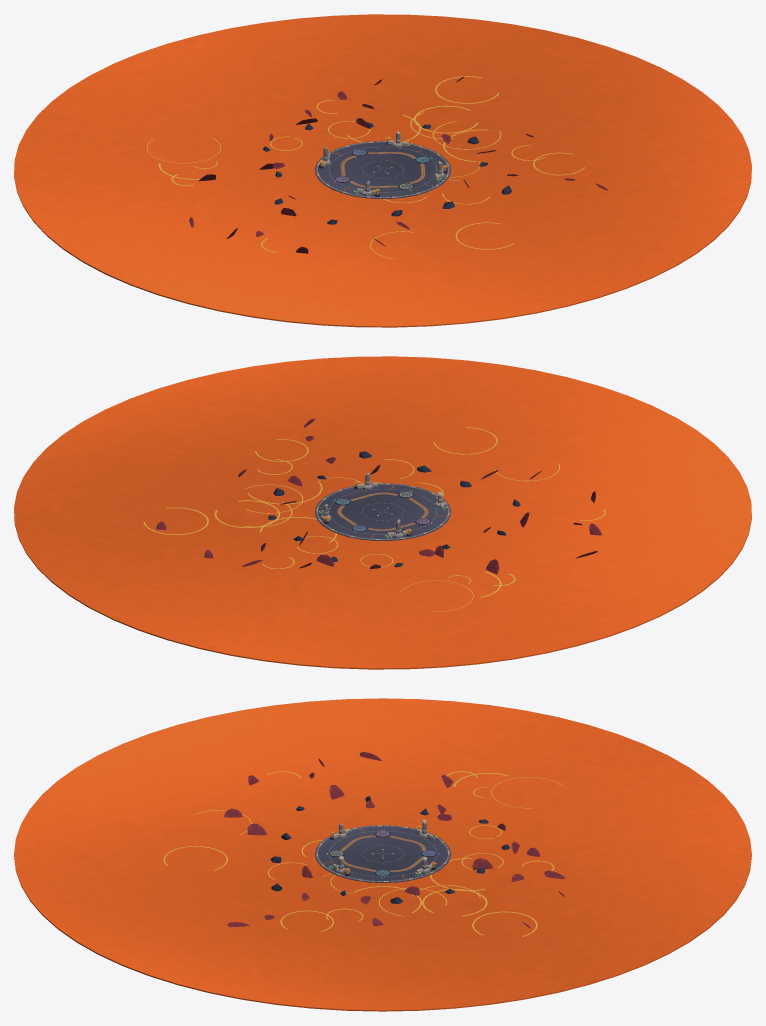
File: Caldera_Arena.fbx
3 views of the same model, one above another, from view 1: azimuth 30°, elevation 25°; view 2: azimuth 150°, elevation 25°; view 3: azimuth 270°, elevation 25° (orthographic).
Visible parts, largest first — view 1: Lava_Abyss, Walkable_Platform; view 2: Lava_Abyss, Walkable_Platform; view 3: Lava_Abyss, Walkable_Platform.
Boxes of the visible parts, left/top/right/bottom form: Lava_Abyss: left=14, top=14, right=751, bottom=327; Walkable_Platform: left=315, top=141, right=450, bottom=198; Lava_Abyss: left=14, top=356, right=751, bottom=669; Walkable_Platform: left=315, top=483, right=450, bottom=540; Lava_Abyss: left=14, top=698, right=751, bottom=1011; Walkable_Platform: left=315, top=825, right=450, bottom=882.
Bounding box in the file's own units: 130 × 10.55 × 130.
